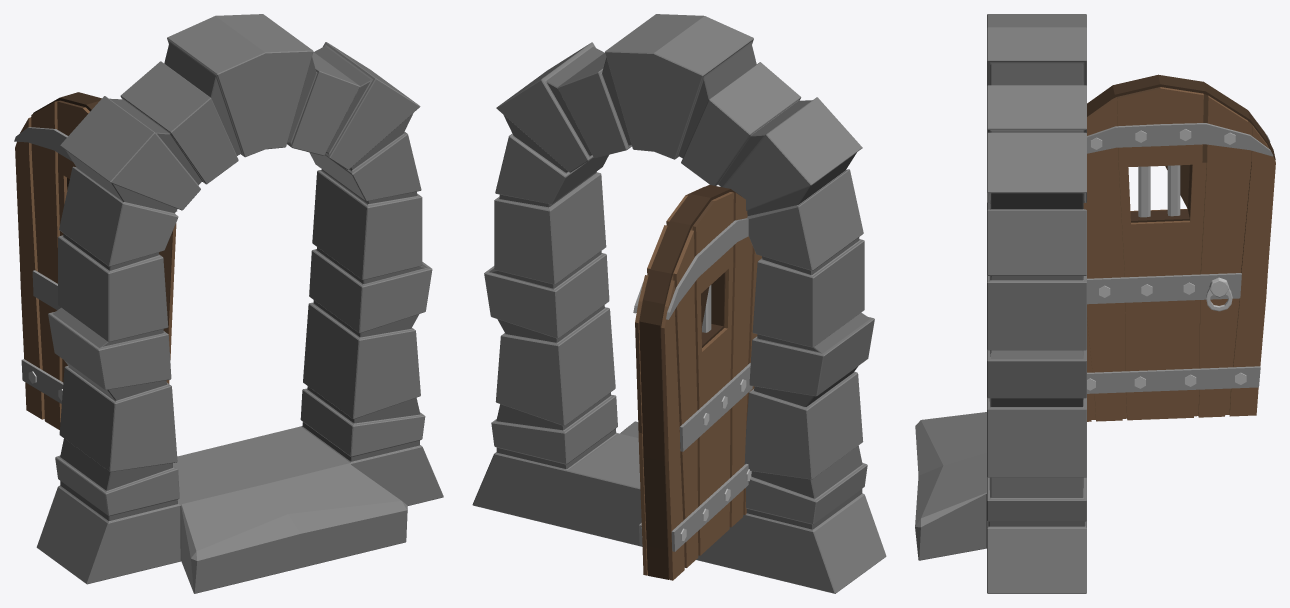
Rendered from Tür_Offen.fbx.
3 views of the same model, side by side, from view 1: azimuth 30°, elevation 25°; view 2: azimuth 150°, elevation 25°; view 3: azimuth 270°, elevation 25° (orthographic). The views are drawn at different scales.
Parts seen in each view (by area): view 1: Tür.003; view 2: Tür.003; view 3: Tür.003.
Boxes of the visible parts, box(x1,y1,x2,y2) form: Tür.003: box(14, 14, 443, 593); Tür.003: box(472, 14, 886, 593); Tür.003: box(915, 14, 1275, 593).
Bounding box in the file's own units: 311 × 408 × 276.
